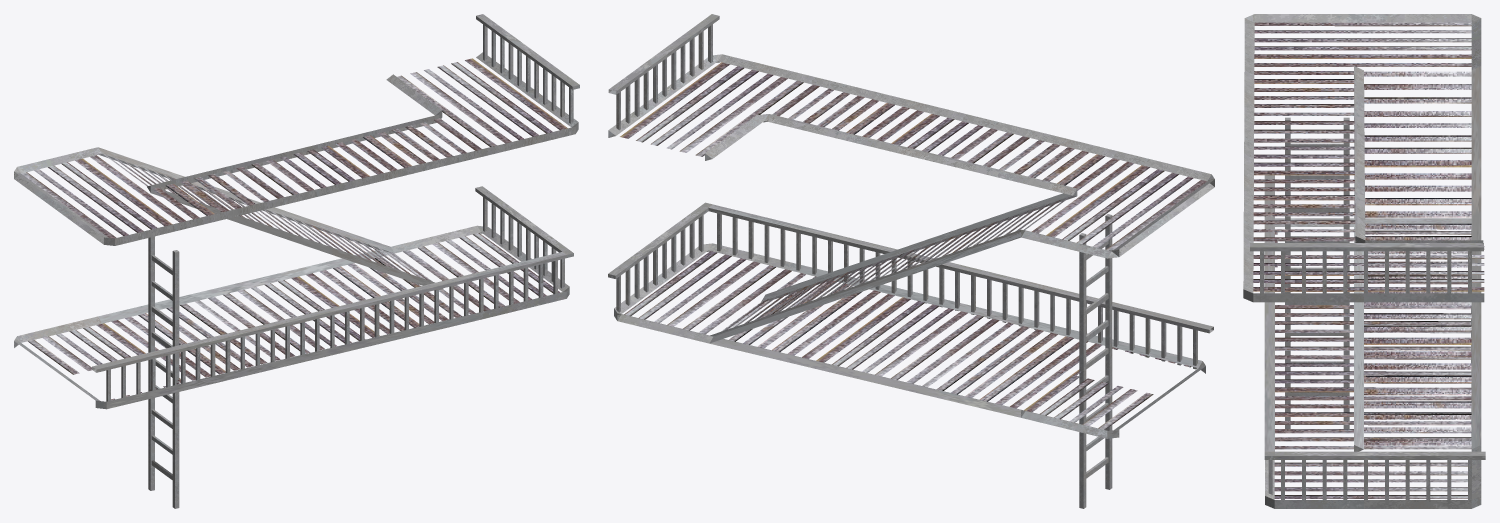
File: ESCALERAS DE EMERGENCIA.fbx
3 views of the same model, side by side, from view 1: azimuth 30°, elevation 25°; view 2: azimuth 150°, elevation 25°; view 3: azimuth 270°, elevation 25° (orthographic). The views are drawn at different scales.
Parts seen in each view (by area): view 1: emer, emer.001, emer.002; view 2: emer, emer.001, emer.002; view 3: emer.001, emer, emer.002.
Boxes of the visible parts, bbox=[...] form: emer: bbox=[14, 14, 579, 409]; emer.001: bbox=[21, 58, 567, 380]; emer.002: bbox=[148, 236, 179, 508]; emer: bbox=[608, 14, 1214, 438]; emer.001: bbox=[620, 62, 1206, 429]; emer.002: bbox=[1079, 214, 1112, 508]; emer.001: bbox=[1253, 22, 1484, 498]; emer: bbox=[1243, 14, 1485, 508]; emer.002: bbox=[1285, 117, 1349, 428].
Bounding box in the file's own units: 1603 × 1089 × 583.
Materials: 2 (2 with a texture image).
